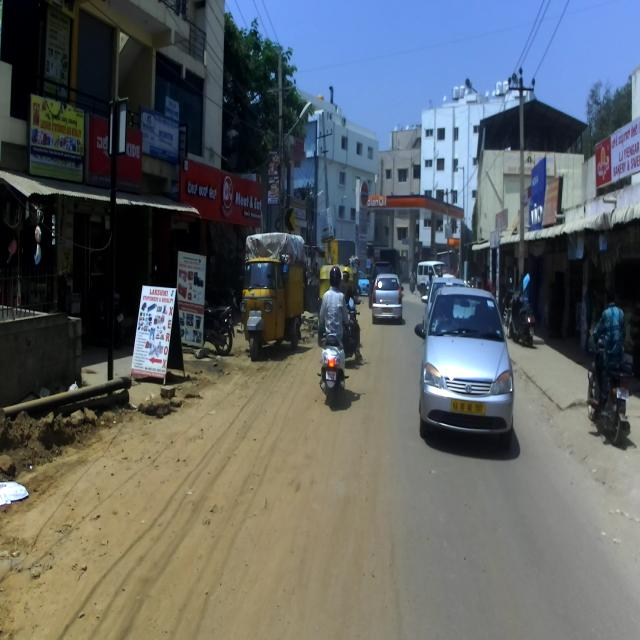auto ahead at: (237, 230, 305, 369)
car ahead at: (416, 283, 517, 460), (369, 270, 406, 334)
motorcycle ahead at: (583, 293, 634, 449), (317, 331, 350, 407)
